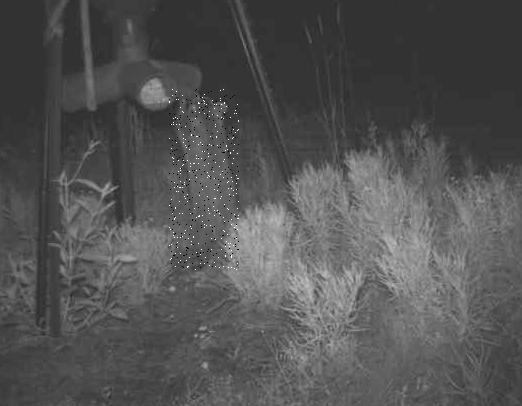Raccoon: (168, 89, 238, 270)
